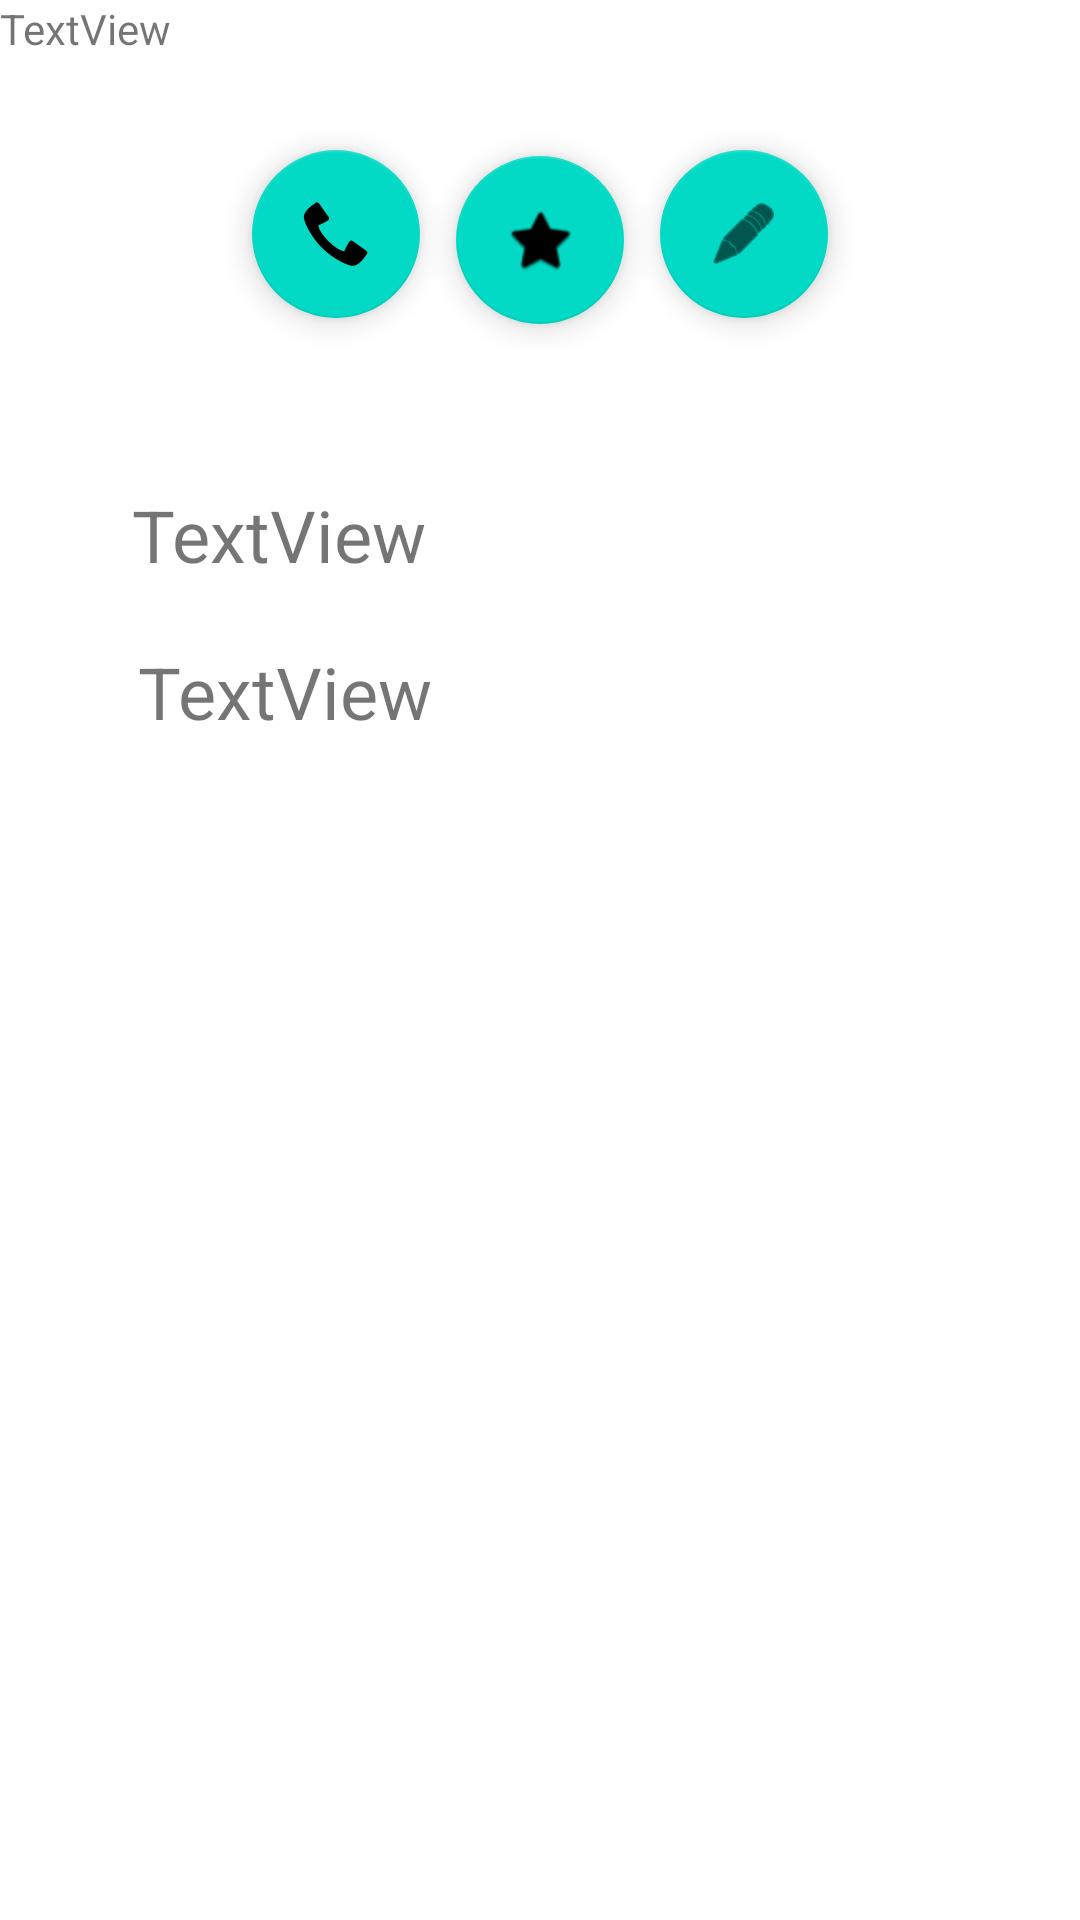

Named icons in this screenshot (1080*1920) and their bounding boxes, (x1, y1, x2, y2):
edit: (660, 150, 828, 318)
phone call: (252, 150, 420, 318)
star: (456, 156, 624, 324)
